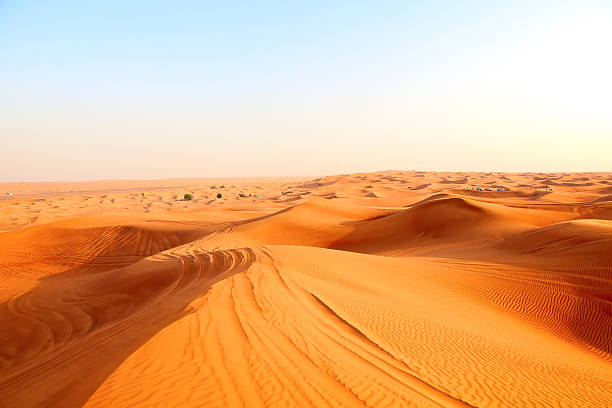vehicle_track: (260, 249, 463, 404), (0, 255, 205, 386), (63, 252, 245, 398), (237, 268, 362, 407), (12, 291, 96, 349)
